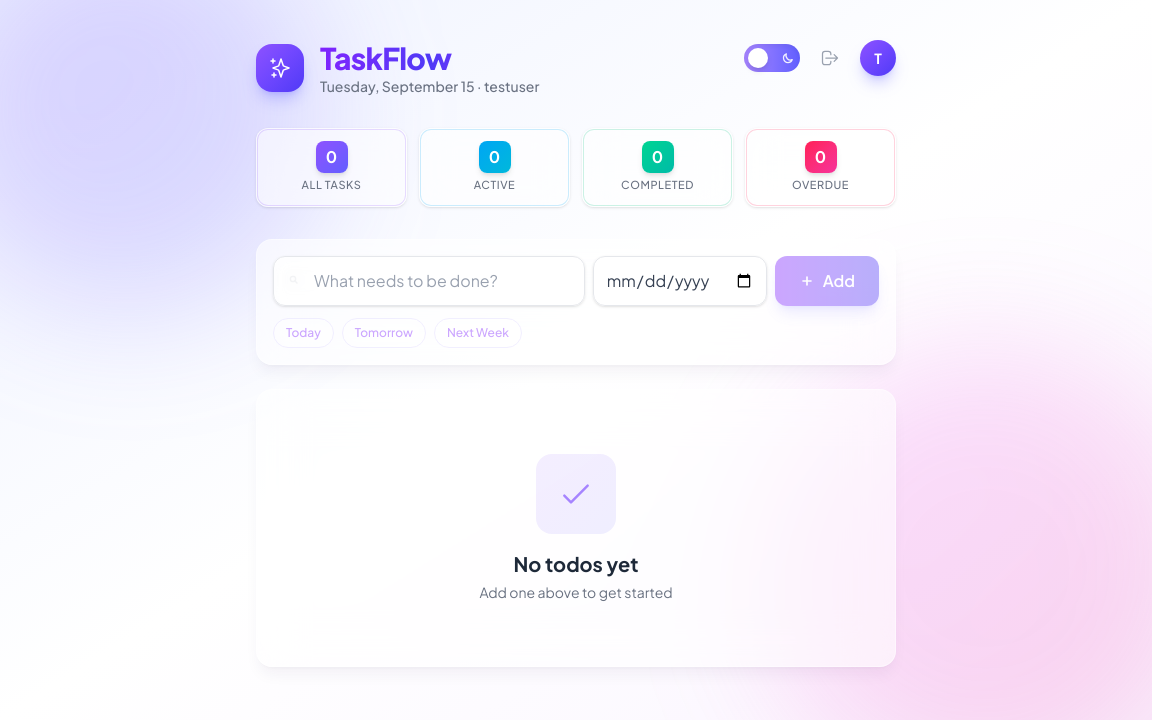
Test: TodoApp › adding todos › adds todo with due date
Type "With date" into the field with placeholder "What needs to be done?" at (429, 280), box [273,256,585,306]
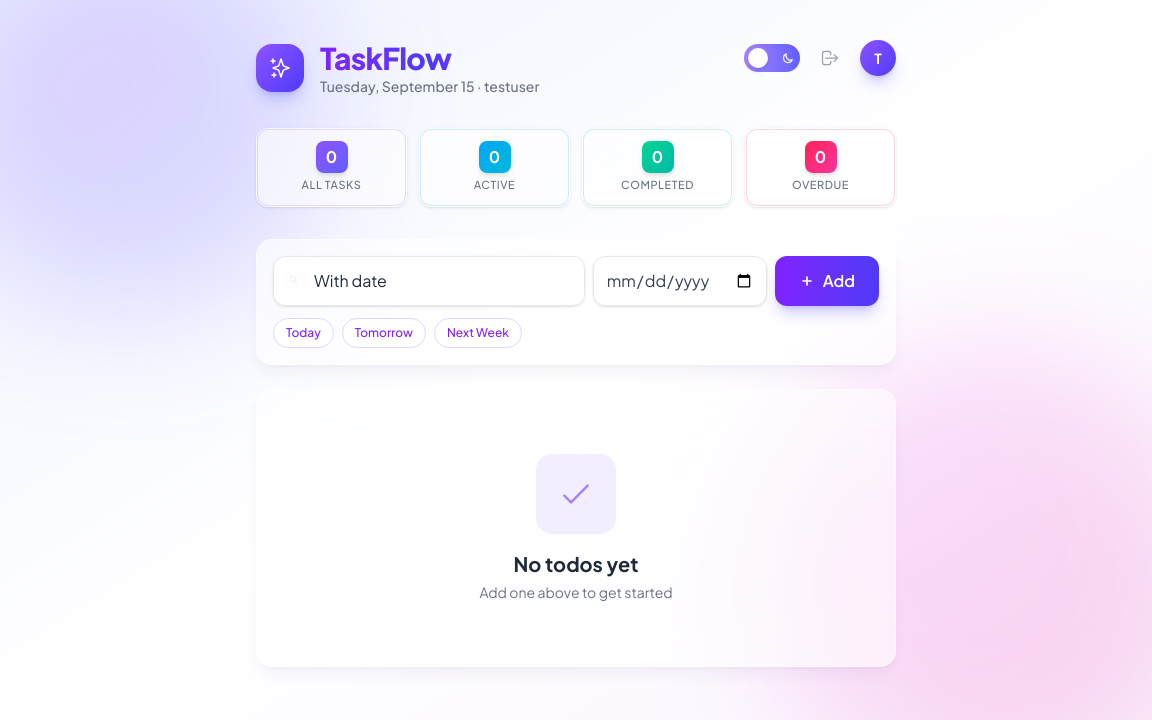
Type "2026-12-25" into the date field named "Due date" at (680, 280), box [593,256,767,306]
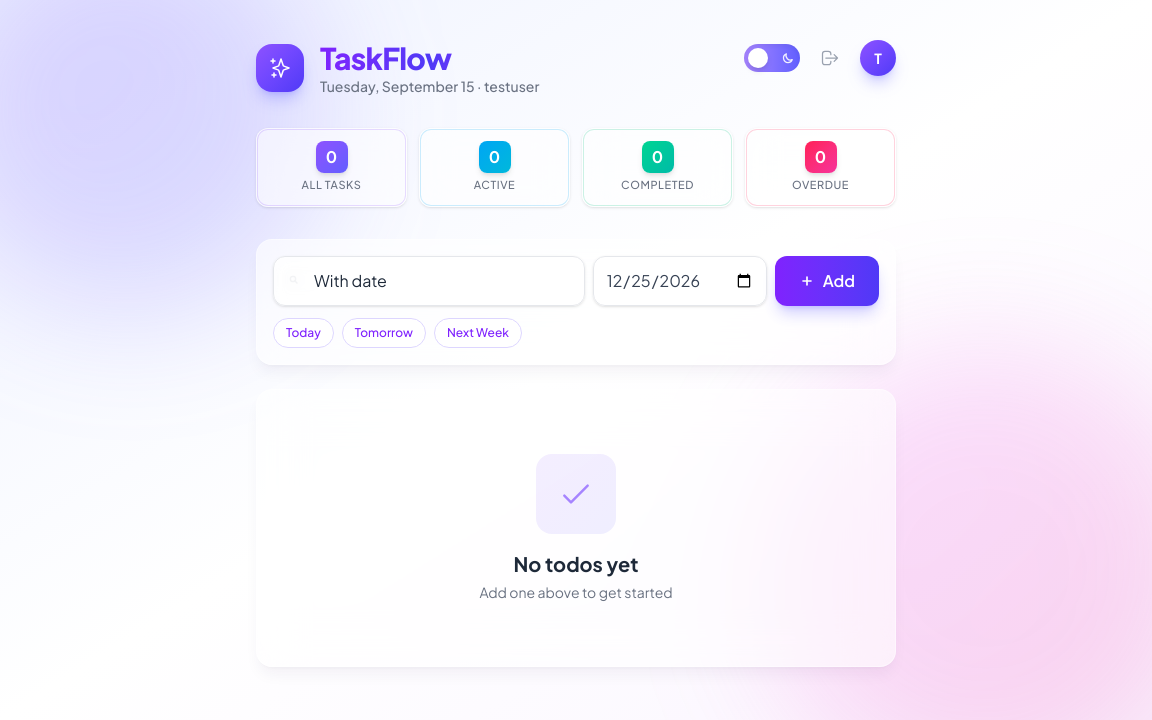
Click the button "Add" at (827, 280), box [775,256,879,306]
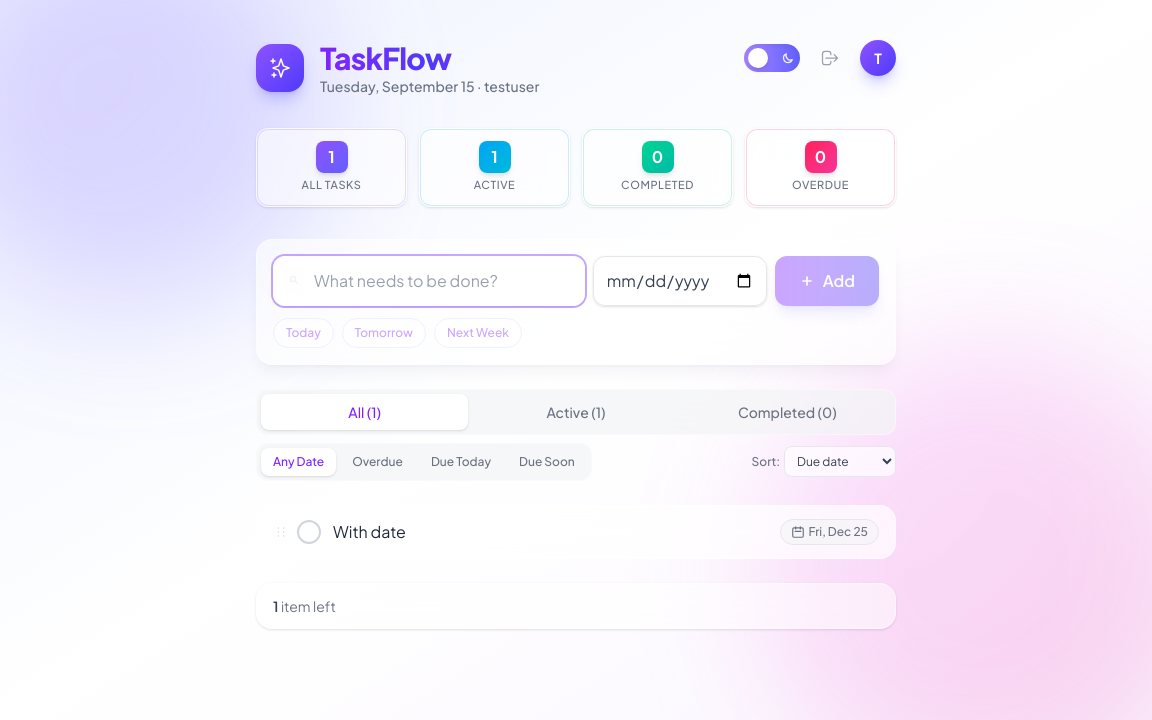
Expected: the text "With date" is shown, [333,520,406,542]
Expected: the button with aria-label "Edit due date" is shown, [780,518,879,544]
